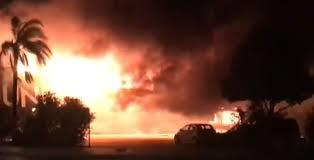fire: (13, 40, 140, 110), (206, 105, 239, 131)
